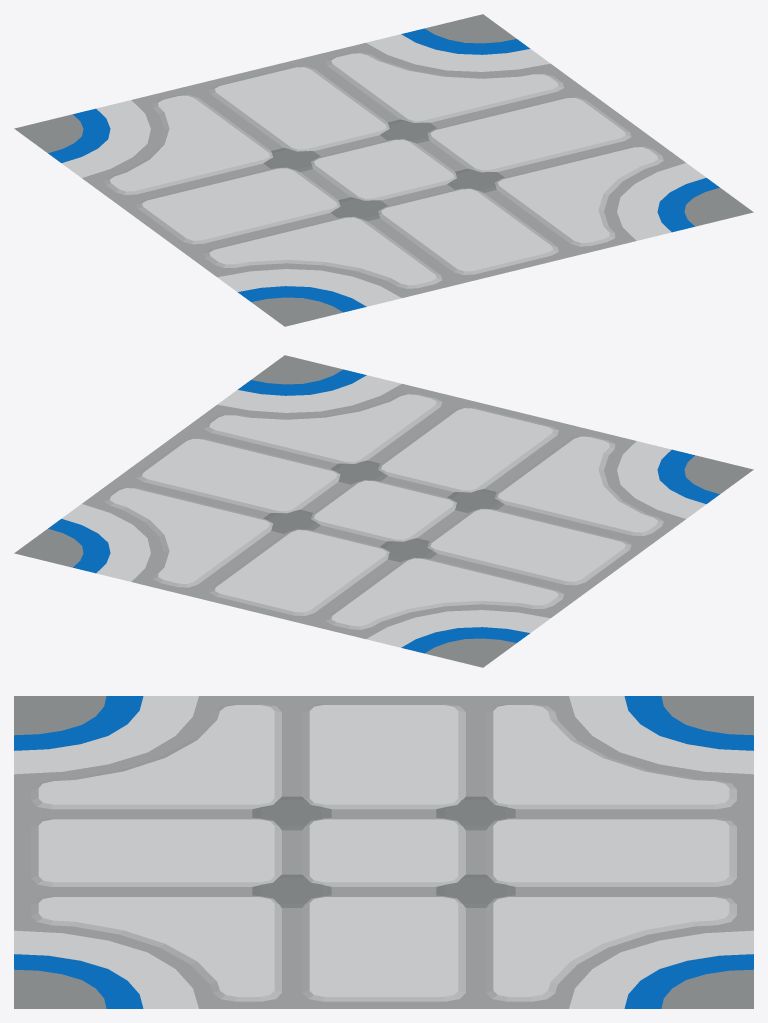
The model's file is Floor_type_A_009.glb.
3 renders of one model, top to bottom at view 1: azimuth 30°, elevation 25°; view 2: azimuth 150°, elevation 25°; view 3: azimuth 270°, elevation 25°, orthographic. The views are drawn at different scales.
Visible parts, largest first — view 1: Floor_type_A_009; view 2: Floor_type_A_009; view 3: Floor_type_A_009.
Part boxes in pixels (x1=…): Floor_type_A_009: x1=14, y1=14, x2=753, y2=326; Floor_type_A_009: x1=14, y1=355, x2=753, y2=667; Floor_type_A_009: x1=14, y1=696, x2=753, y2=1008.
Size of the model in its own units: 4 by 0.0134 by 4.
2 materials, 2 textured.
